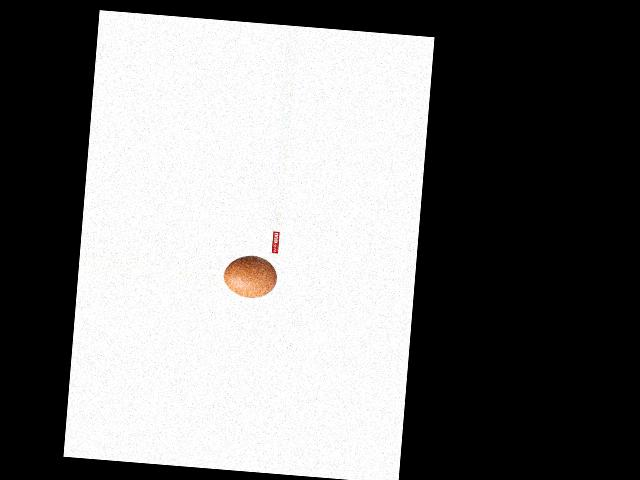egg: (223, 254, 278, 300)
